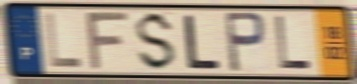F: (84, 10, 132, 73)
L: (43, 11, 85, 70), (182, 13, 223, 71), (273, 15, 313, 72)
P: (222, 10, 268, 75)
S: (135, 10, 179, 74)
